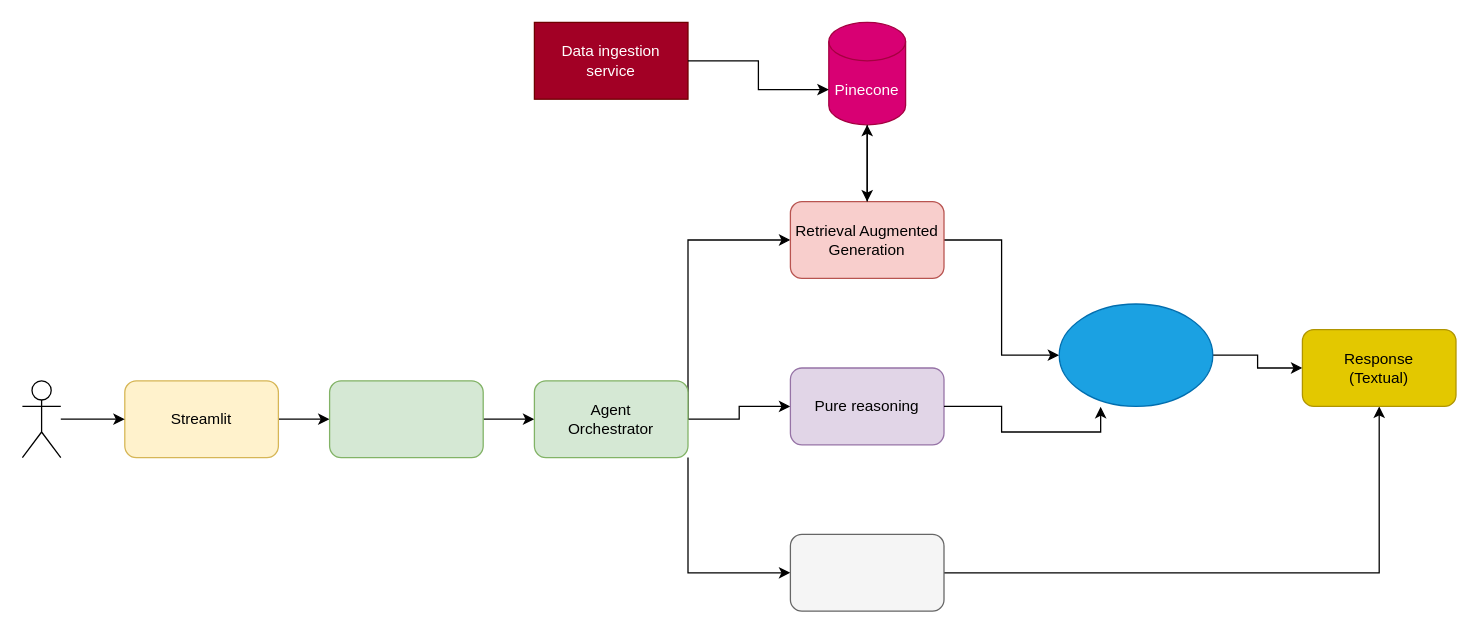
The diagram is 1478 pixels wide and 634 high, and some of its shapes have lost their labels. Each missing label, with the box of its shape:
Actor: (21, 380, 61, 458)
Default response: (789, 533, 944, 611)
LLM: (1058, 303, 1213, 406)
Voice to text: (328, 380, 483, 458)
